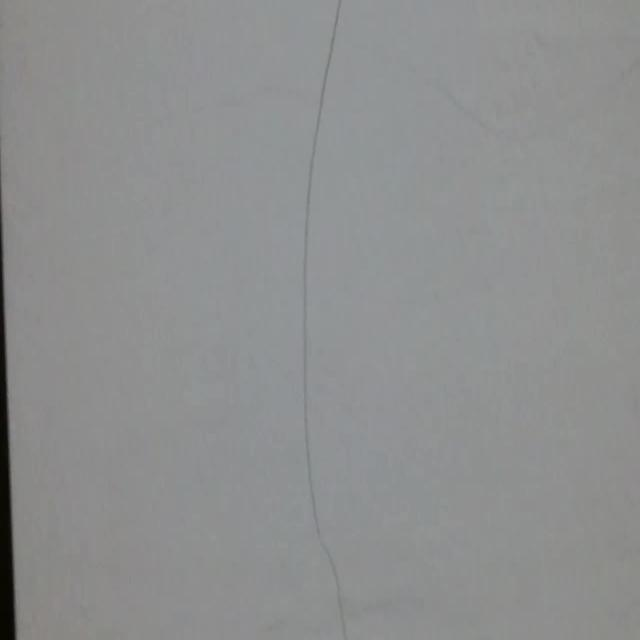Crack: (247, 3, 378, 640)
